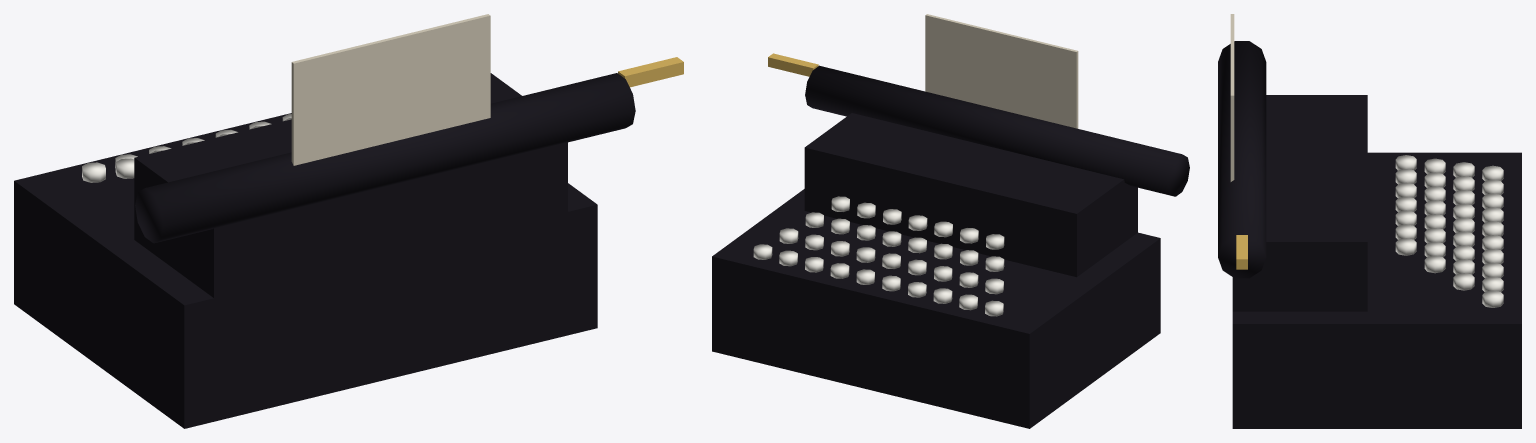
The model's file is SM_PRP_MaquinaEscrever.fbx.
3 renders of one model, left to right at view 1: azimuth 30°, elevation 25°; view 2: azimuth 150°, elevation 25°; view 3: azimuth 270°, elevation 25°, orthographic. The views are drawn at different scales.
Visible parts, largest first — view 1: SM_PRP_MaquinaEscrever; view 2: SM_PRP_MaquinaEscrever; view 3: SM_PRP_MaquinaEscrever.
Boxes of the visible parts, x1,y1,x2,y2 form: SM_PRP_MaquinaEscrever: [14, 14, 683, 428]; SM_PRP_MaquinaEscrever: [712, 14, 1189, 428]; SM_PRP_MaquinaEscrever: [1218, 14, 1521, 428].
Size of the model in its own units: 0.54 by 0.33 by 0.315.
